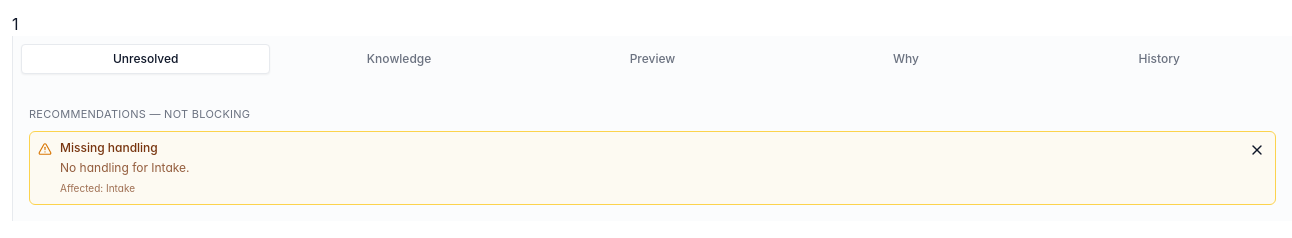
Test case: ASC Side panel — advisory gap items (Slice 4) › dismiss hides item from UI without touching draft.input
What coordinates should you click on to do the following:
click the button with test id "asc-gap-dismiss-g-1"
I would click on:
 (1257, 150)
Its box is [1247,140,1267,160].
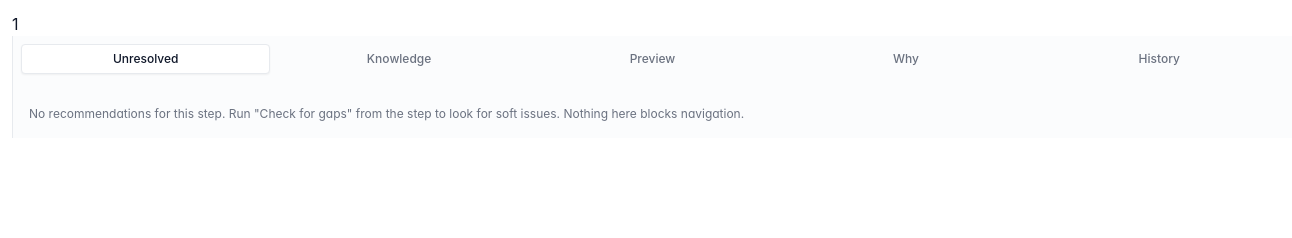
Expected: the text with test id "reasons-count" reads "1", [12,14,18,34]
Now the list item with test id "asc-gap-item-g-1" is gone
Now the text with test id "asc-gap-empty-3" is shown, box [29,106,744,121]
